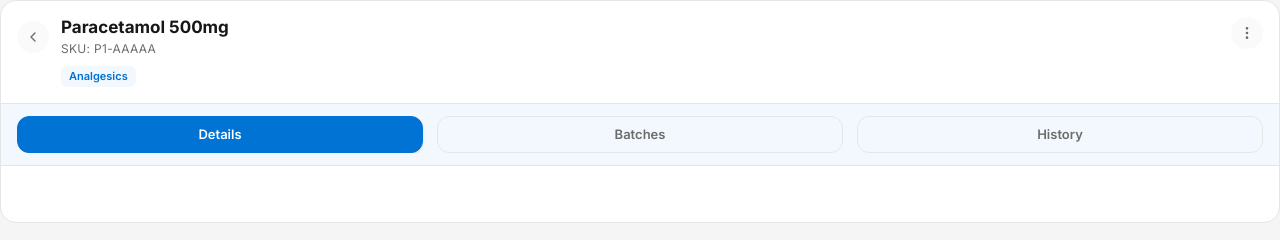
Test: Catalog detail panel delete-product permission › keeps Edit Product available without delete_products
Press the mouse on the button named "product actions" at [1247, 33], box [1231,17,1263,49]
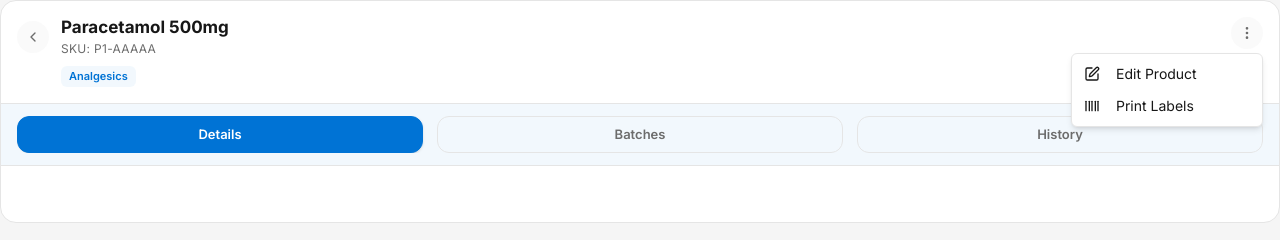
Now the menu item "Edit Product" is shown, box [1084,65,1197,82]
